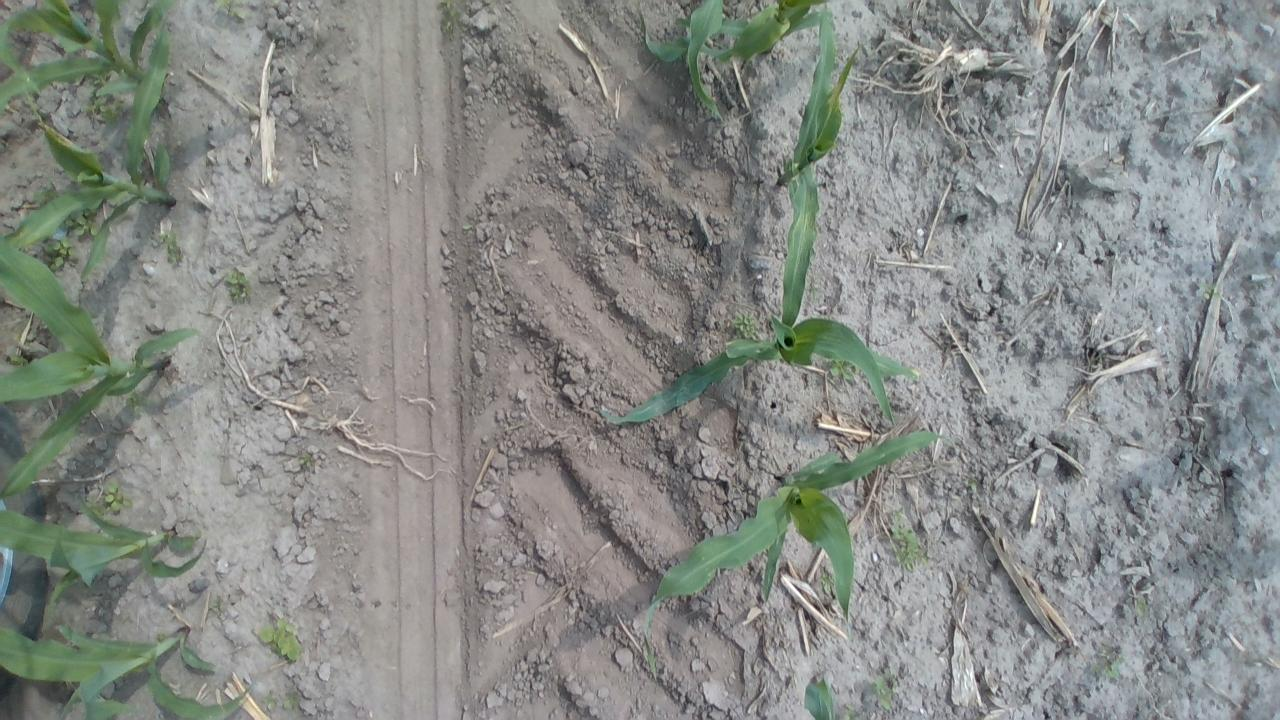Maize: (642, 429, 956, 681), (0, 229, 204, 483), (0, 24, 179, 282), (597, 305, 921, 430), (766, 4, 866, 342), (0, 485, 212, 614), (635, 0, 847, 124), (0, 621, 256, 720), (0, 1, 172, 118), (796, 677, 870, 720)
Weeds: (885, 514, 931, 572), (254, 616, 304, 662), (80, 85, 120, 124), (41, 238, 84, 272), (98, 481, 134, 518), (156, 232, 190, 270), (222, 266, 253, 305), (63, 209, 102, 238), (264, 690, 306, 716), (869, 674, 896, 714), (436, 1, 466, 33), (214, 0, 252, 21), (1094, 654, 1122, 682), (828, 359, 858, 382), (294, 450, 324, 472), (731, 312, 758, 336), (1128, 590, 1149, 617), (818, 572, 841, 596), (1198, 286, 1226, 302), (29, 185, 56, 201), (207, 595, 224, 616), (966, 476, 980, 495)
